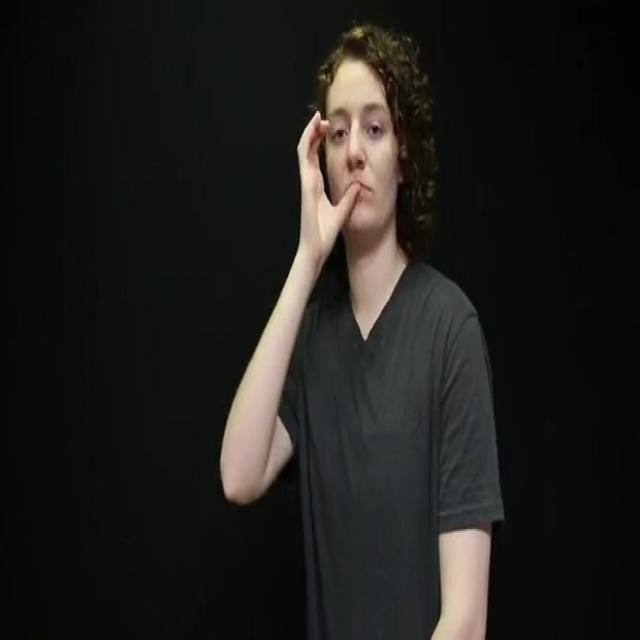drink: (294, 110, 364, 262)
